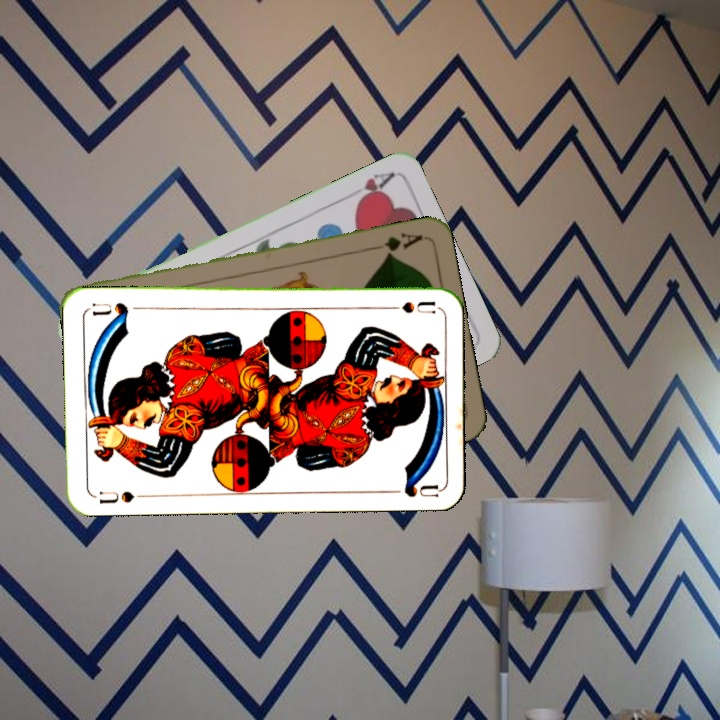GA: (368, 228, 425, 259)
HA: (351, 168, 397, 208)
SU: (378, 297, 437, 316), (91, 487, 137, 506)
